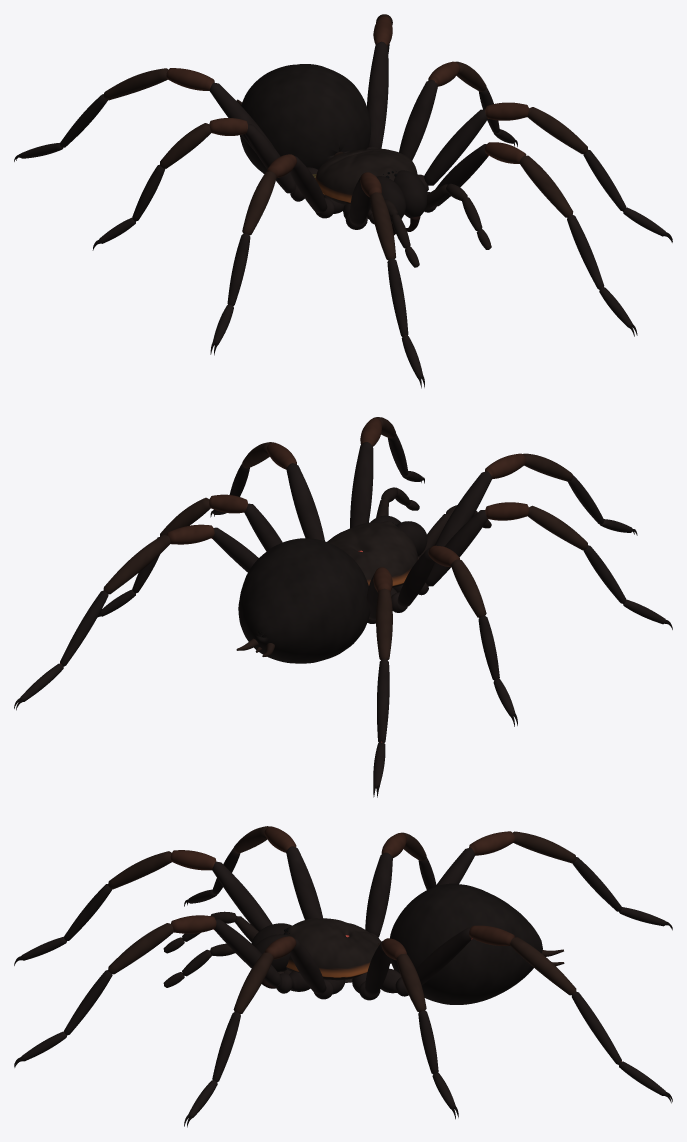
File: araignee.glb
3 views of the same model, one above another, from view 1: azimuth 30°, elevation 25°; view 2: azimuth 150°, elevation 25°; view 3: azimuth 270°, elevation 25° (orthographic).
Parts seen in each view (by area): view 1: abdomen, carapace, femur_G4, femur_G2, femur_G3, tibia_G1, palpe_G, chelicere_G, tibia_D1, tibia_G2, tibia_D2, femur_D3 (+18 smaller); view 2: abdomen, carapace, femur_G1, femur_G2, femur_D1, tibia_G4, femur_D2, tibia_D4, femur_D3, tibia_D2, metatarse_D4, metatarse_G4 (+13 smaller); view 3: abdomen, carapace, femur_D3, femur_D1, femur_D2, femur_G1, femur_G4, tibia_G4, tibia_G1, tibia_G2, tibia_D1, femur_G2 (+25 smaller).
Part boxes in pixels (x1,y1,x2,y2): abdomen: (240,64,370,173); carapace: (315,148,417,204); femur_G4: (367,41,388,148); femur_G2: (424,109,487,185); femur_G3: (399,79,437,160); tibia_G1: (519,155,573,217); palpe_G: (424,183,491,249); chelicere_G: (394,170,427,218); tibia_D1: (370,192,395,260); tibia_G2: (527,107,587,154); tibia_D2: (242,171,276,235); femur_D3: (245,124,296,193); abdomen: (238,538,370,663); carapace: (327,521,417,587); femur_G1: (350,442,373,528); femur_G2: (286,463,324,541); femur_D1: (435,471,492,546); tibia_G4: (103,535,170,594); femur_D2: (425,510,487,586); tibia_D4: (376,588,392,660); femur_D3: (397,548,434,606); tibia_D2: (528,505,587,550); metatarse_D4: (377,659,389,742); metatarse_G4: (60,590,108,666); abdomen: (390,883,542,1004); carapace: (283,918,381,980); femur_D3: (365,852,392,937); femur_D1: (212,861,272,931); femur_D2: (286,846,323,919); femur_G1: (214,919,281,986); femur_G4: (416,927,471,985); tibia_G4: (510,937,576,995); tibia_G1: (108,923,173,974); tibia_G2: (233,952,273,1014); tibia_D1: (108,851,171,889); femur_G2: (289,938,326,994).
Bounding box in the file's own units: 6.05 × 1.73 × 7.59.
